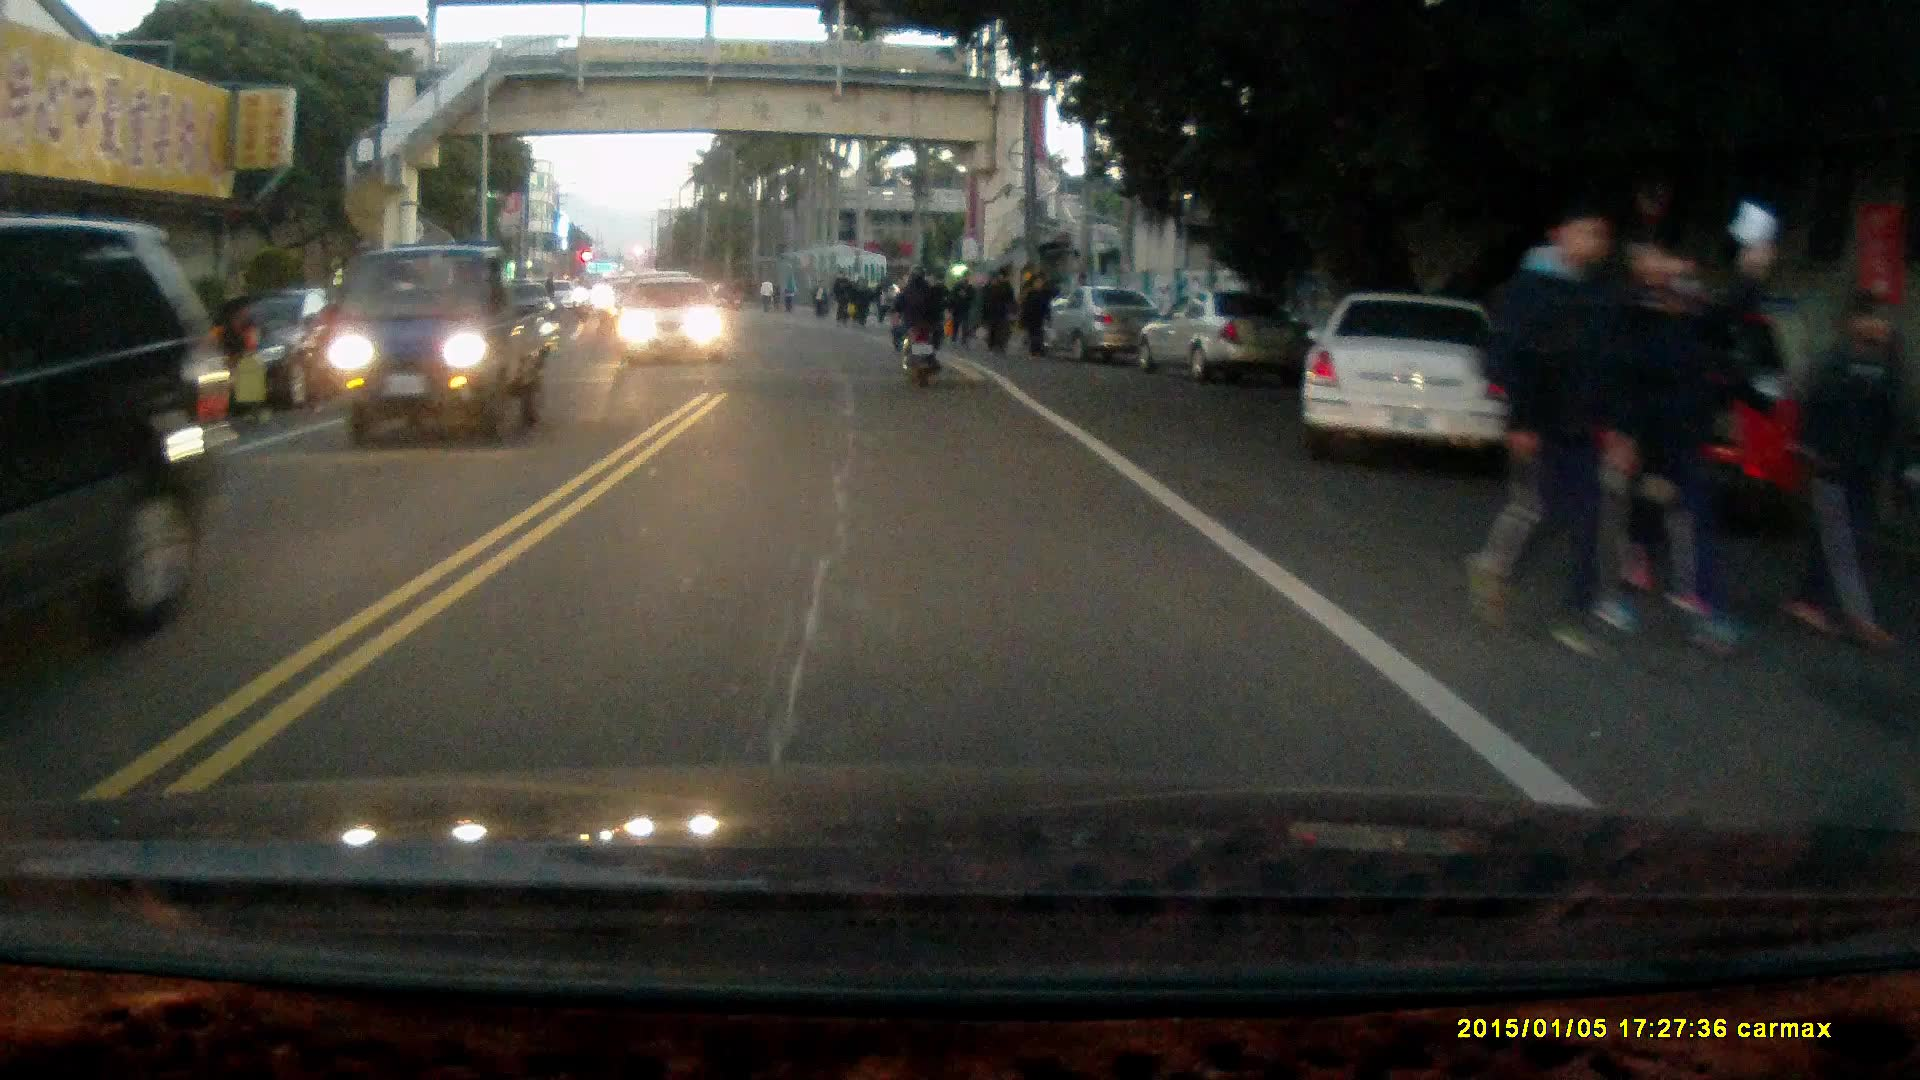pedestrian: (1465, 188, 1642, 657), (1598, 222, 1781, 661), (1783, 290, 1907, 656), (990, 261, 1020, 354), (980, 274, 1009, 363), (1022, 279, 1050, 356), (949, 270, 975, 345)
rider: (882, 262, 946, 388)
vehicle: (1, 213, 239, 647), (323, 244, 566, 452), (1302, 290, 1520, 458), (213, 285, 415, 411), (1145, 291, 1305, 391), (1040, 288, 1167, 368), (620, 279, 725, 365)
